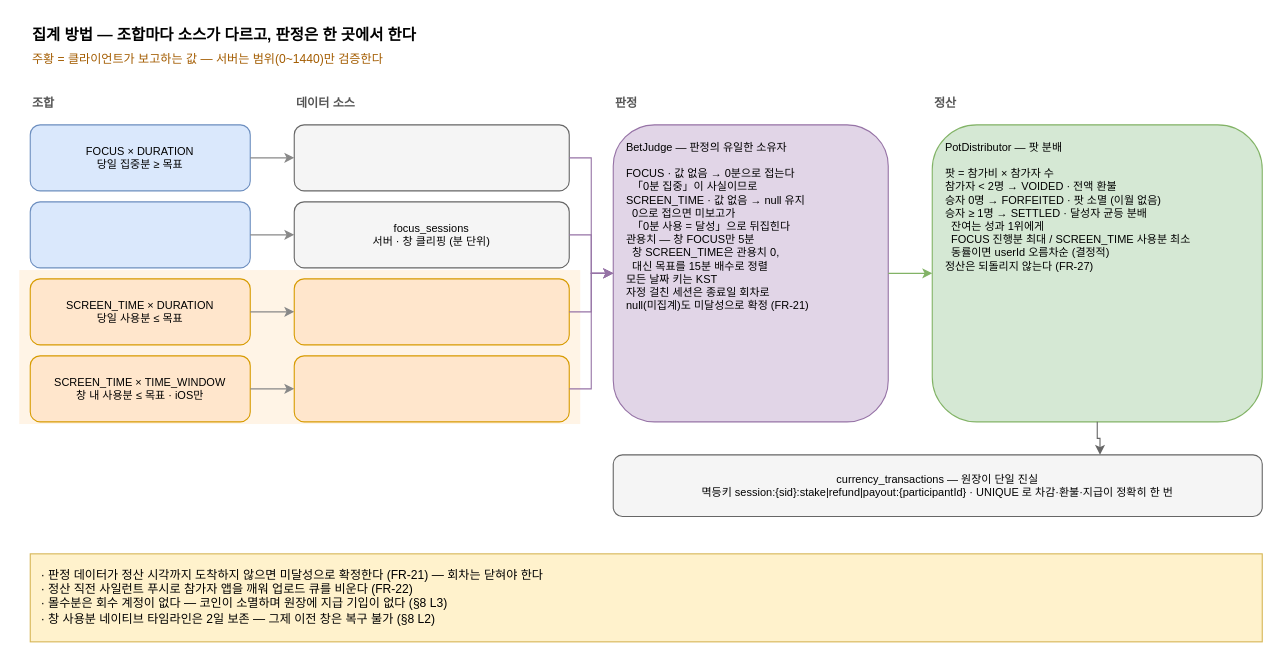
Image size: 1282x661. Some labels were removed from this diagram. The centre of each missing label's shape, as x and y in pixels:
daily_focus_stats 서버 · 세션 기록 (분 단위): [431,157]
daily_screen_time_stats 클라 보고 · 일 단위 집계: [431,311]
FOCUS × TIME_WINDOW 창 내 집중분 ≥ 목표 − 5분: [139,234]
group_challenge_members 클라 보고 · 15분 눈금: [431,388]
